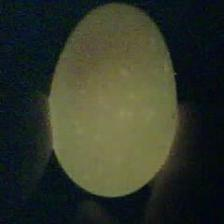infertile: (44, 4, 178, 199)
